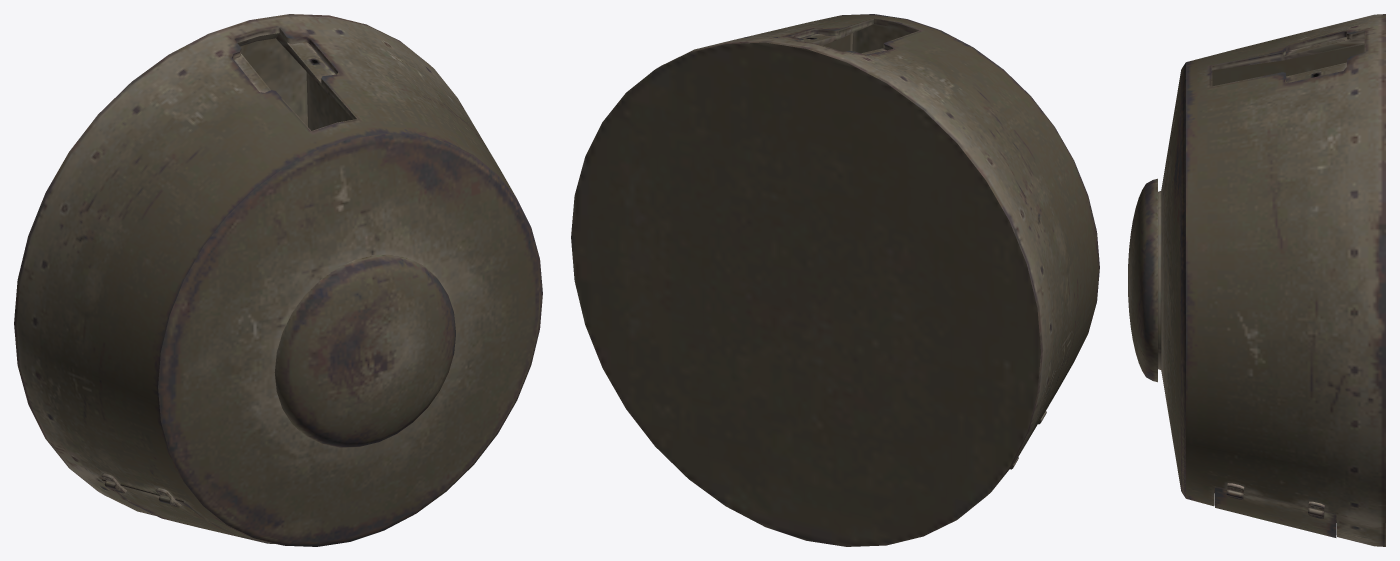
File: Turret_02.glb
3 views of the same model, side by side, from view 1: azimuth 30°, elevation 25°; view 2: azimuth 150°, elevation 25°; view 3: azimuth 270°, elevation 25° (orthographic).
Visible parts, largest first — view 1: set_0_group_0; view 2: set_0_group_0; view 3: set_0_group_0.
Boxes of the visible parts, x1,y1,x2,y2 form: set_0_group_0: (14,14,542,546); set_0_group_0: (571,14,1099,546); set_0_group_0: (1128,14,1385,546).
Bounding box in the file's own units: 1.22 × 1.22 × 0.5856.
1 material, 1 textured.
